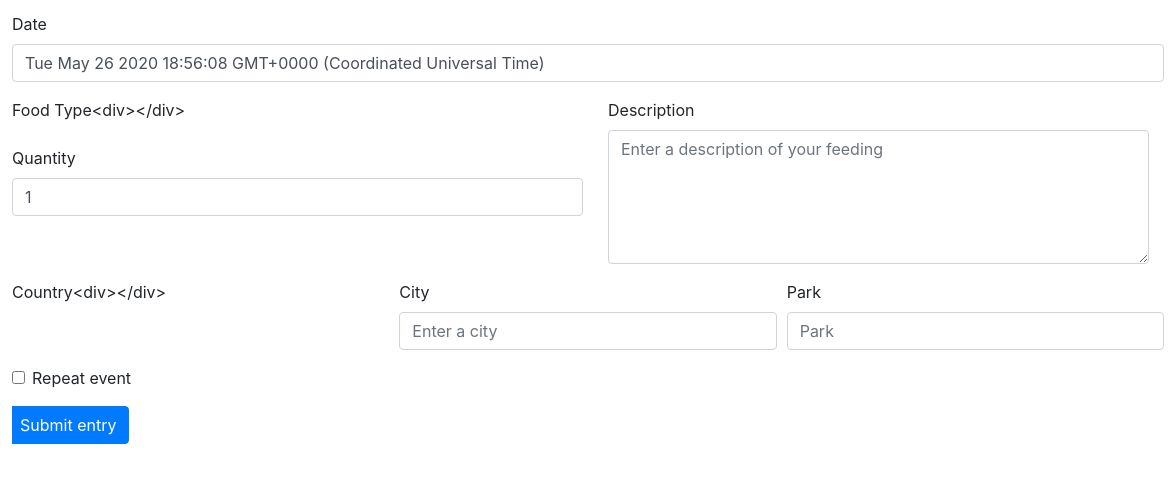
when rendering component › quantity field › should show error message when empty
Clear the number field labelled "Quantity": (298, 197) [12,178,583,216]
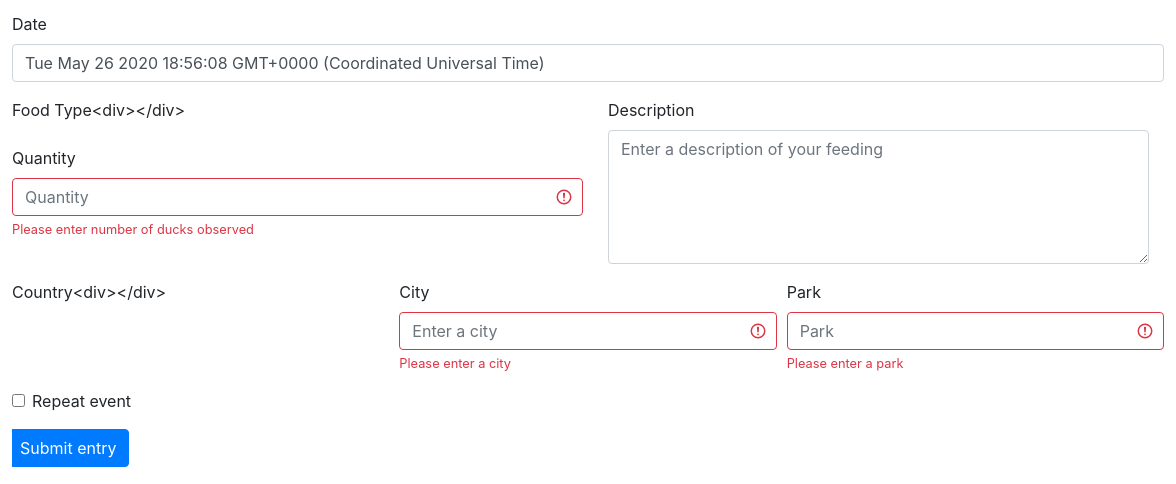
Result: the text "Please enter number of ducks observed" is shown at [12,222,254,237]
